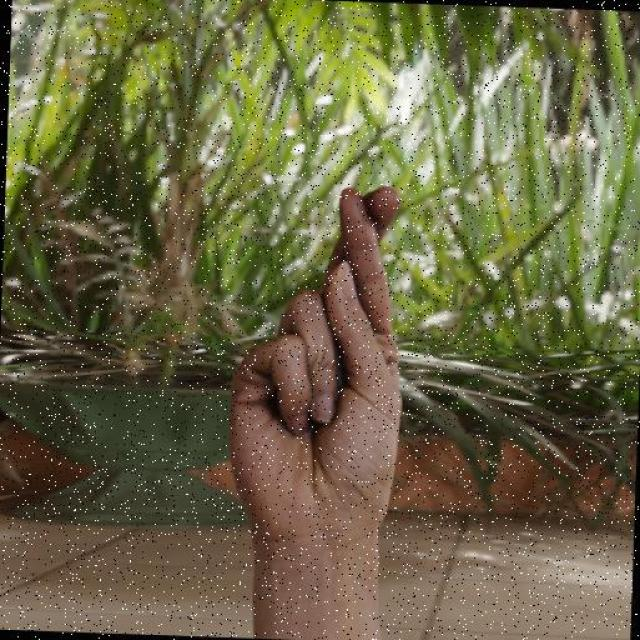R: (222, 178, 411, 533)
